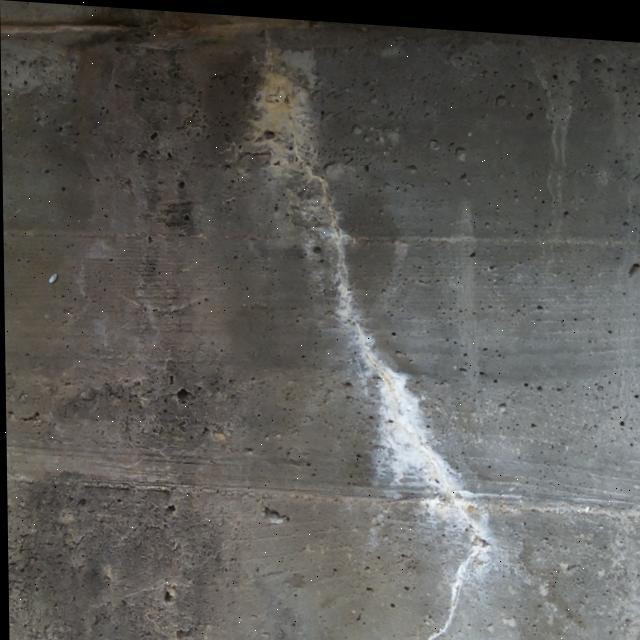D01: (334, 262, 493, 626), (254, 74, 313, 173)
